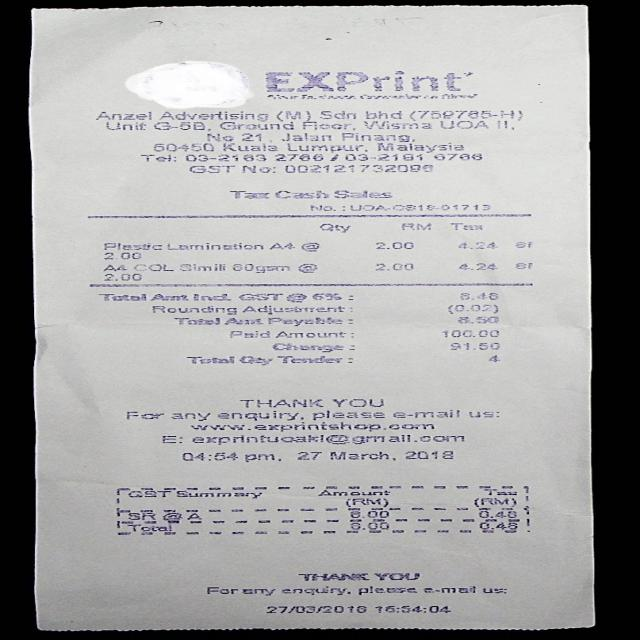text: (263, 72, 459, 93), (188, 434, 466, 444), (186, 423, 438, 431), (282, 164, 434, 173), (156, 111, 268, 122), (345, 154, 485, 162), (241, 304, 344, 314), (345, 205, 490, 212), (415, 110, 515, 120), (184, 154, 325, 161), (264, 604, 366, 613), (374, 142, 466, 151), (238, 399, 323, 408), (286, 142, 362, 152), (165, 242, 260, 250), (215, 412, 298, 421), (337, 132, 411, 142), (148, 306, 237, 314), (296, 572, 370, 581), (278, 354, 344, 364), (390, 409, 462, 418), (271, 343, 342, 352), (374, 605, 452, 613), (92, 110, 154, 120), (369, 120, 431, 130), (327, 450, 389, 460), (275, 330, 343, 339), (266, 317, 342, 325), (274, 189, 328, 200), (231, 262, 290, 272), (220, 122, 292, 130), (316, 488, 388, 496), (276, 132, 331, 142), (330, 398, 385, 408), (307, 411, 385, 418), (281, 586, 348, 594), (100, 242, 159, 251), (175, 492, 260, 498), (331, 190, 392, 198), (151, 143, 210, 151), (178, 452, 237, 460), (447, 342, 499, 351), (220, 144, 278, 152), (442, 329, 499, 337), (420, 586, 477, 594), (439, 119, 484, 129), (470, 496, 515, 506), (358, 586, 414, 594), (402, 450, 451, 459), (152, 122, 206, 130), (361, 110, 404, 120), (102, 121, 144, 131), (233, 189, 268, 201), (122, 410, 164, 420), (342, 498, 388, 507), (374, 572, 425, 580), (175, 263, 225, 271), (128, 523, 172, 532), (302, 122, 351, 130), (185, 355, 234, 363), (318, 110, 357, 120), (171, 412, 210, 422), (349, 521, 392, 530), (121, 490, 169, 498), (132, 263, 174, 272), (455, 315, 497, 324), (173, 317, 220, 325), (239, 586, 276, 596), (100, 292, 146, 300), (310, 292, 346, 302), (448, 304, 493, 312), (276, 110, 308, 121), (236, 293, 279, 301), (474, 510, 516, 518), (344, 511, 392, 518), (314, 223, 351, 232), (239, 355, 269, 366), (456, 262, 496, 270), (186, 166, 231, 173), (455, 293, 500, 300), (373, 241, 412, 249), (373, 263, 412, 271), (102, 273, 141, 281), (201, 132, 232, 142), (228, 331, 272, 338), (476, 522, 520, 529), (190, 292, 228, 300), (149, 293, 187, 301), (204, 586, 237, 595), (104, 252, 141, 260), (447, 222, 483, 230), (242, 453, 274, 462), (239, 164, 270, 173), (483, 488, 517, 496), (224, 318, 262, 325), (137, 155, 174, 162), (399, 222, 431, 230), (294, 451, 322, 460), (267, 241, 294, 250), (239, 132, 263, 142), (124, 512, 154, 520), (458, 242, 497, 248), (304, 204, 333, 212), (158, 434, 179, 445), (467, 411, 497, 418), (104, 264, 127, 272), (514, 262, 534, 270), (491, 120, 507, 129), (182, 512, 200, 520), (513, 242, 530, 250), (484, 586, 501, 594), (488, 354, 499, 363)
